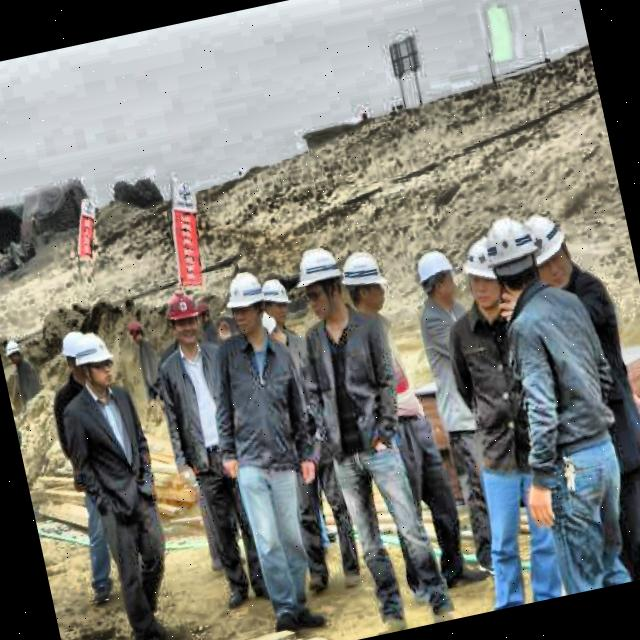helmet: (476, 212, 542, 308), (516, 207, 581, 301), (455, 230, 520, 318), (290, 239, 352, 328), (336, 245, 393, 323), (219, 265, 273, 340), (408, 241, 464, 313), (158, 282, 209, 354), (72, 326, 118, 396), (257, 274, 296, 336), (56, 326, 92, 386), (1, 334, 30, 379), (126, 317, 148, 350)
